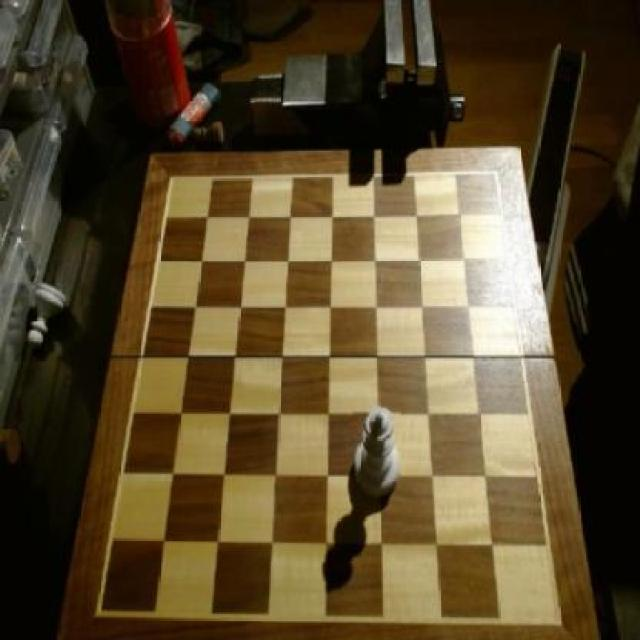white-pawn: (351, 404, 401, 504)
